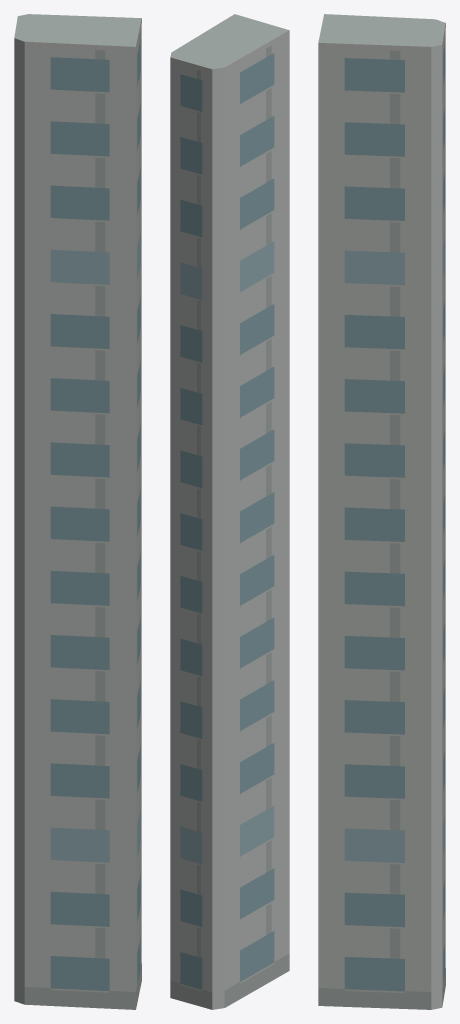
Rendered from survey-upis-32983553.glb.
The picture shows the model from 3 angles, left to right: view 1: azimuth 90°, elevation 25°; view 2: azimuth 150°, elevation 25°; view 3: azimuth 270°, elevation 25°; orthographic projection. The views are drawn at different scales.
Visible parts, largest first — view 1: survey-upis-32983553.tmp; view 2: survey-upis-32983553.tmp; view 3: survey-upis-32983553.tmp.
Boxes of the visible parts, bbox=[...] form: survey-upis-32983553.tmp: bbox=[14, 14, 141, 1009]; survey-upis-32983553.tmp: bbox=[170, 14, 289, 1009]; survey-upis-32983553.tmp: bbox=[318, 14, 445, 1009].
Bounding box in the file's own units: 3.36 × 45.75 × 5.5.
